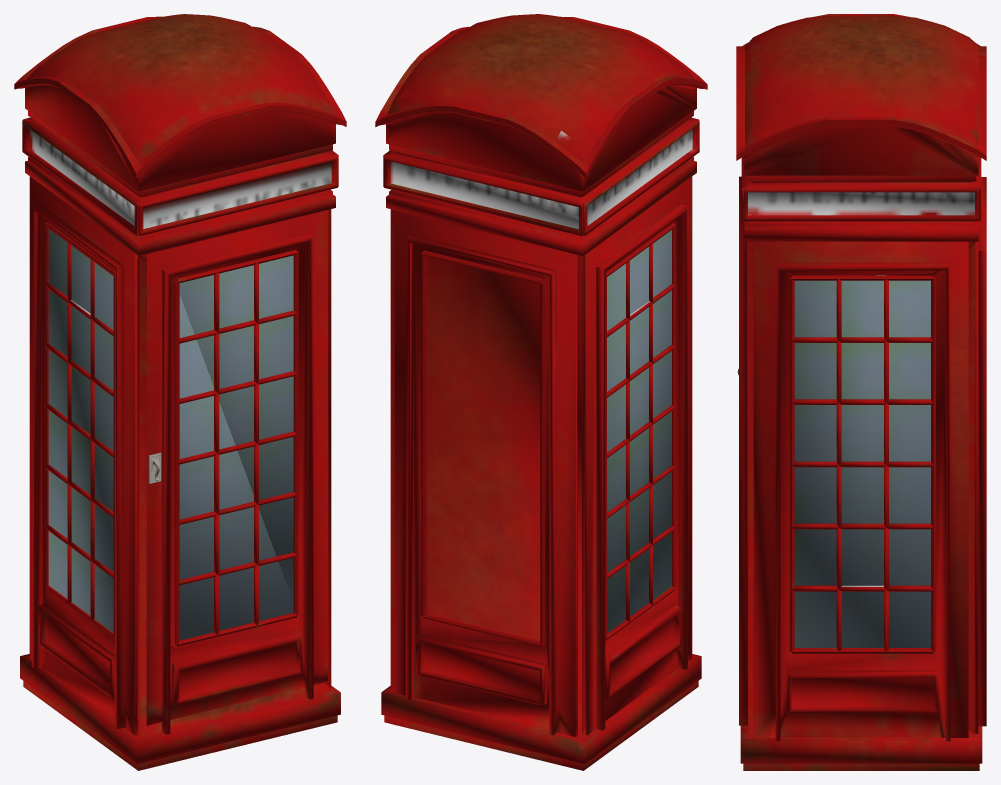
The model's file is bp26_phonebox.fbx.
3 renders of one model, left to right at view 1: azimuth 30°, elevation 25°; view 2: azimuth 150°, elevation 25°; view 3: azimuth 270°, elevation 25°, orthographic. The views are drawn at different scales.
Visible parts, largest first — view 1: bp26_phonebox_LOD0; view 2: bp26_phonebox_LOD0; view 3: bp26_phonebox_LOD0.
Part boxes in pixels (box(x1,y1,x2,y2)): bp26_phonebox_LOD0: box(14, 14, 346, 770); bp26_phonebox_LOD0: box(375, 14, 707, 770); bp26_phonebox_LOD0: box(736, 14, 986, 770).
Size of what is drawn, in the model's own units: 0.8318 by 2.5 by 0.8317.
